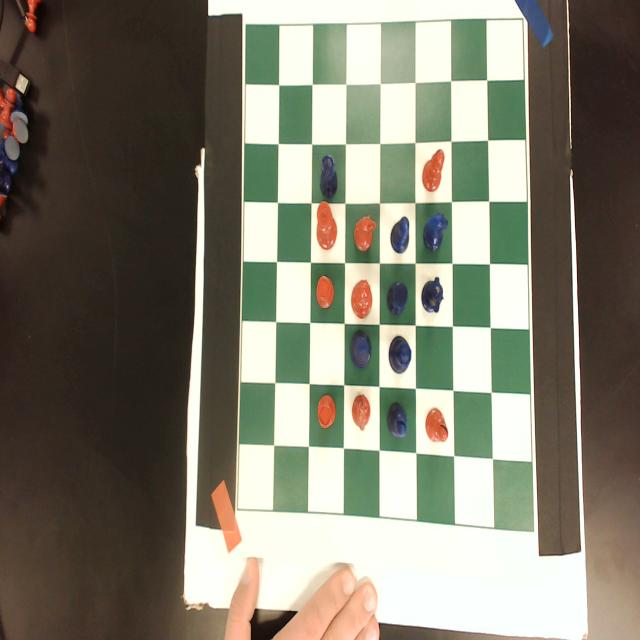B: (386, 398, 411, 442), (389, 214, 412, 256)
K: (349, 329, 373, 372)
N: (421, 210, 451, 255), (420, 275, 446, 317)
Q: (388, 334, 413, 378)
R: (319, 154, 338, 202), (386, 280, 409, 316)
b: (421, 146, 445, 194), (424, 404, 449, 444)
k: (315, 201, 338, 250)
n: (353, 214, 377, 254), (351, 392, 372, 436)
q: (350, 277, 373, 322)
r: (316, 273, 335, 311), (317, 394, 336, 431)
